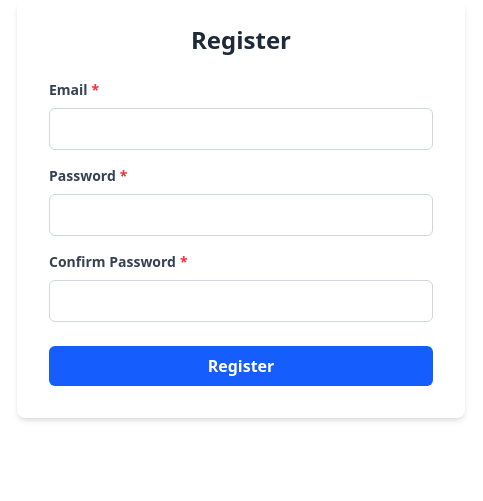
Test: RegisterForm › clears password mismatch error when user types in confirm password field
Type "test@example.com" into the field labelled "Email*" at [241, 129], box [49,108,433,150]
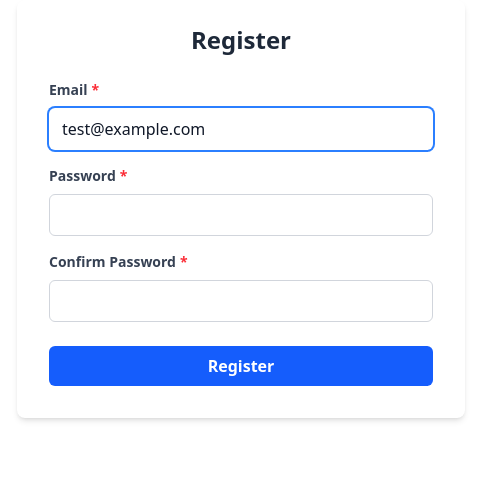
Type "pass1" into the password field labelled "Password*" at [241, 215], box [49,194,433,236]
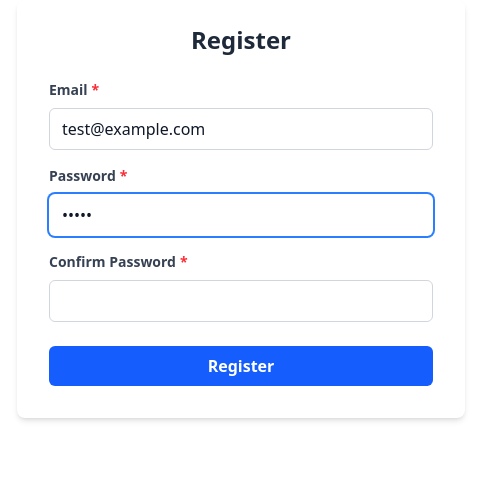
Type "pass2" into the password field labelled "Confirm Password*" at [241, 301], box [49,280,433,322]
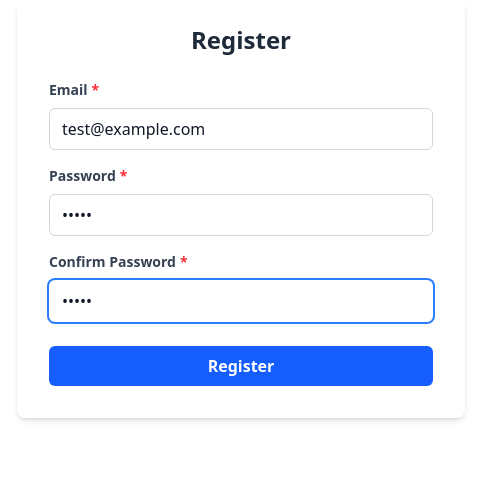
Click the button "Register" at [241, 366], box [49,346,433,386]
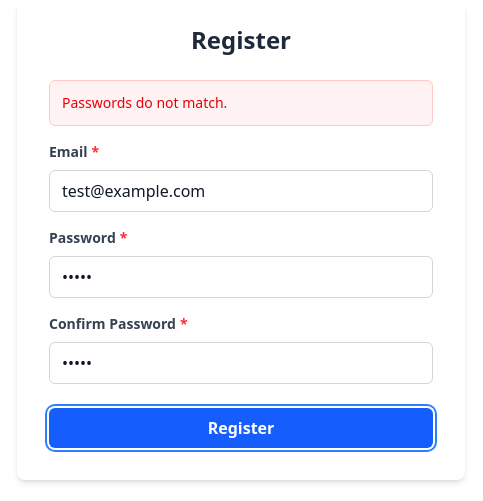
Check: the text "Passwords do not match." is shown, box [62,93,227,112]
# Type in confirm password field to clear error
Type "3" into the password field labelled "Confirm Password*" at [241, 363], box [49,342,433,384]
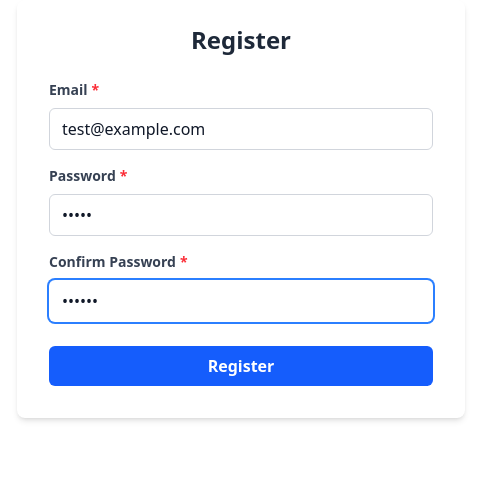
Check: the text "Passwords do not match." is gone
